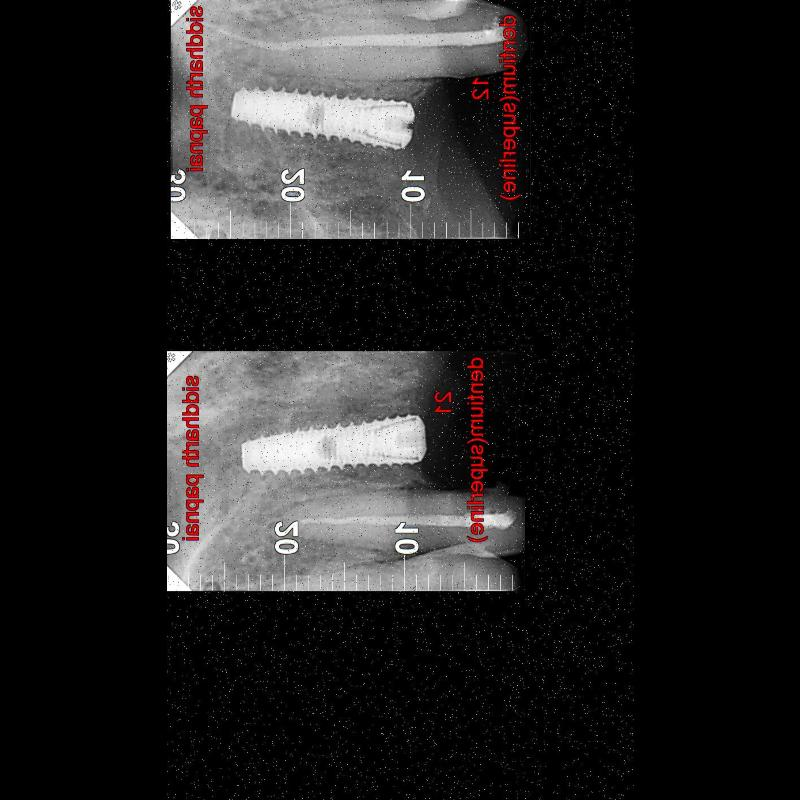Dentium: (504, 272, 634, 508), (548, 84, 634, 308)
